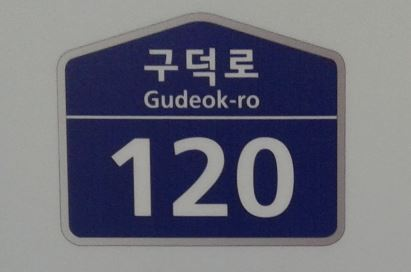building_license_plate1: (58, 11, 346, 246)
